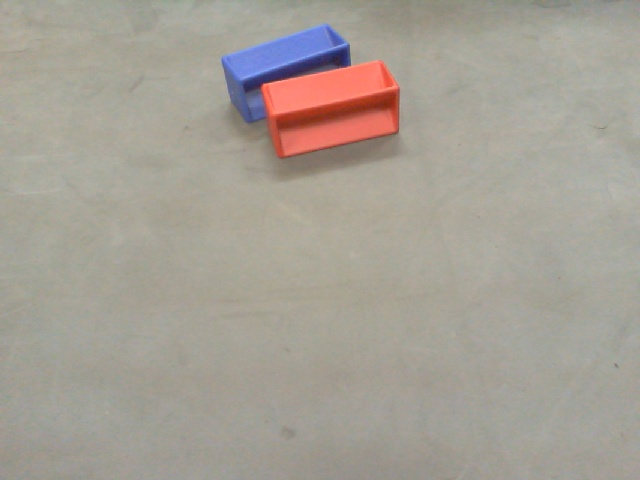BlueSample: (215, 21, 351, 119)
RedSample: (261, 58, 410, 164)
